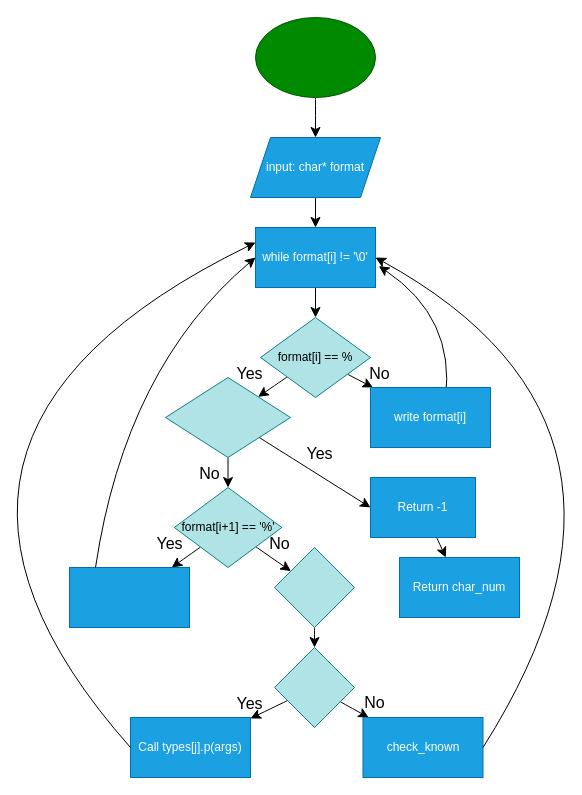
The diagram is 582 pixels wide and 795 high, and some of its shapes have lost their labels. Here are the shapes that lost their labels. From the top down, the centre of each, then its label:
pixel 315 57: START
pixel 227 417: format[i+1] == '\0'
pixel 129 597: write '%'
pixel 314 587: Loop types[]
pixel 314 687: Good types
